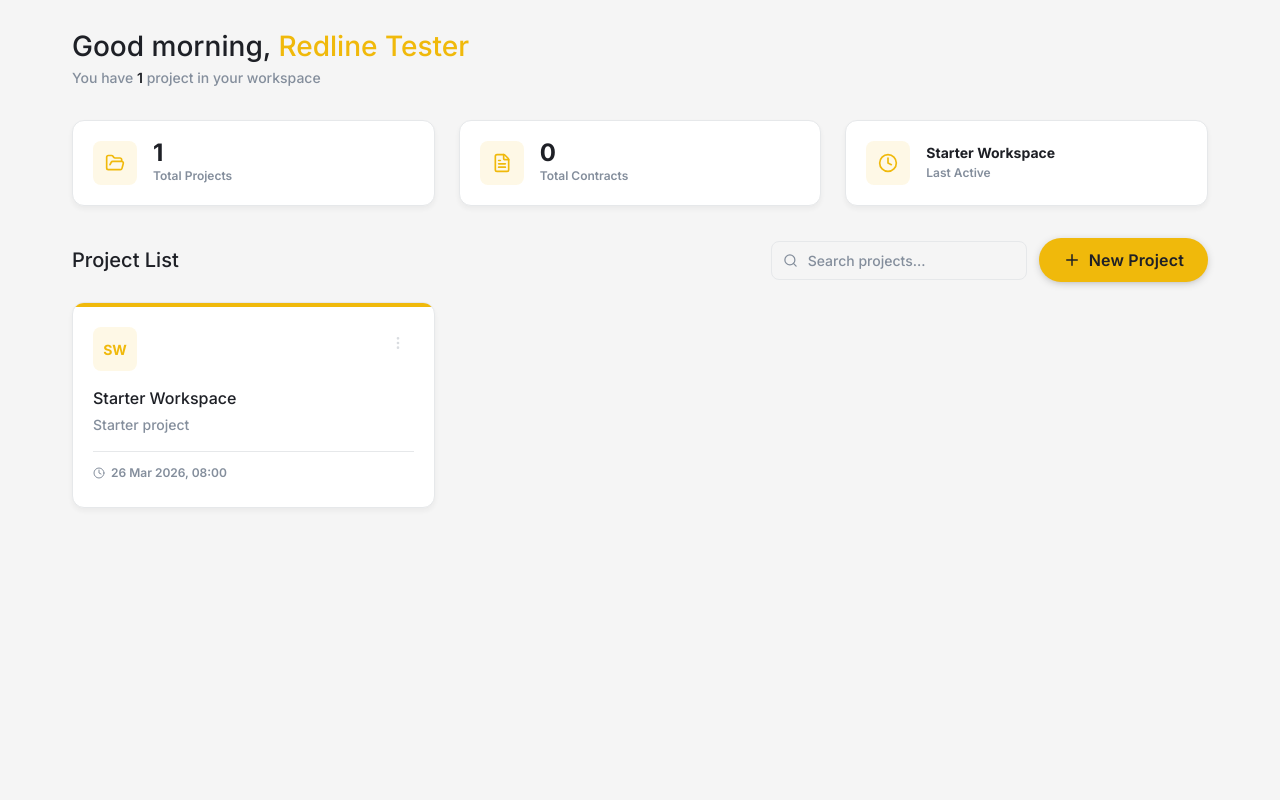
Test: ProjectListPage › deletes a project after confirmation and removes it from the list
Expected: the heading "Project List" is shown, [72, 248, 179, 272]
Expected: the link "Starter Workspace" is shown, [73, 307, 434, 507]
Click the button named "project actions for starter workspace". click: [398, 343]
box: [382, 327, 414, 359]
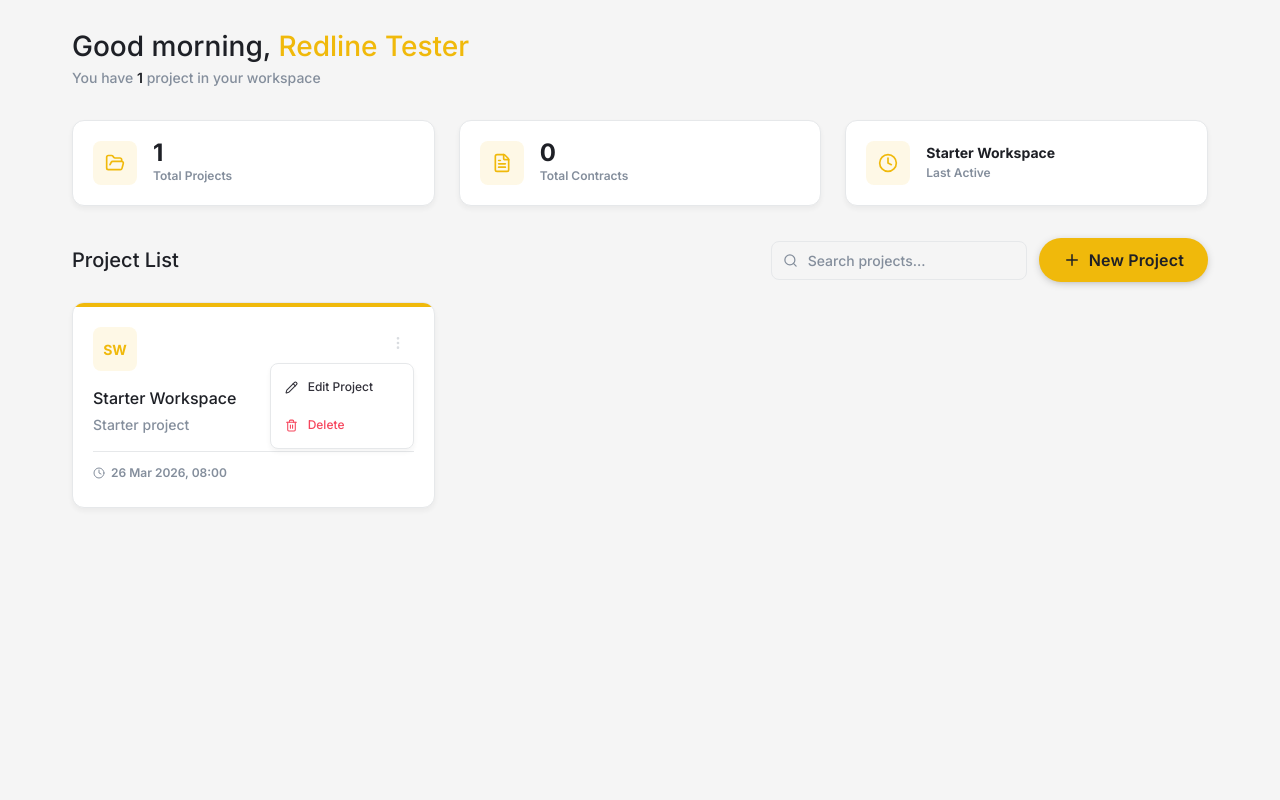
Click the button with aria-label "delete project starter workspace". click: [342, 425]
box: [271, 406, 413, 444]
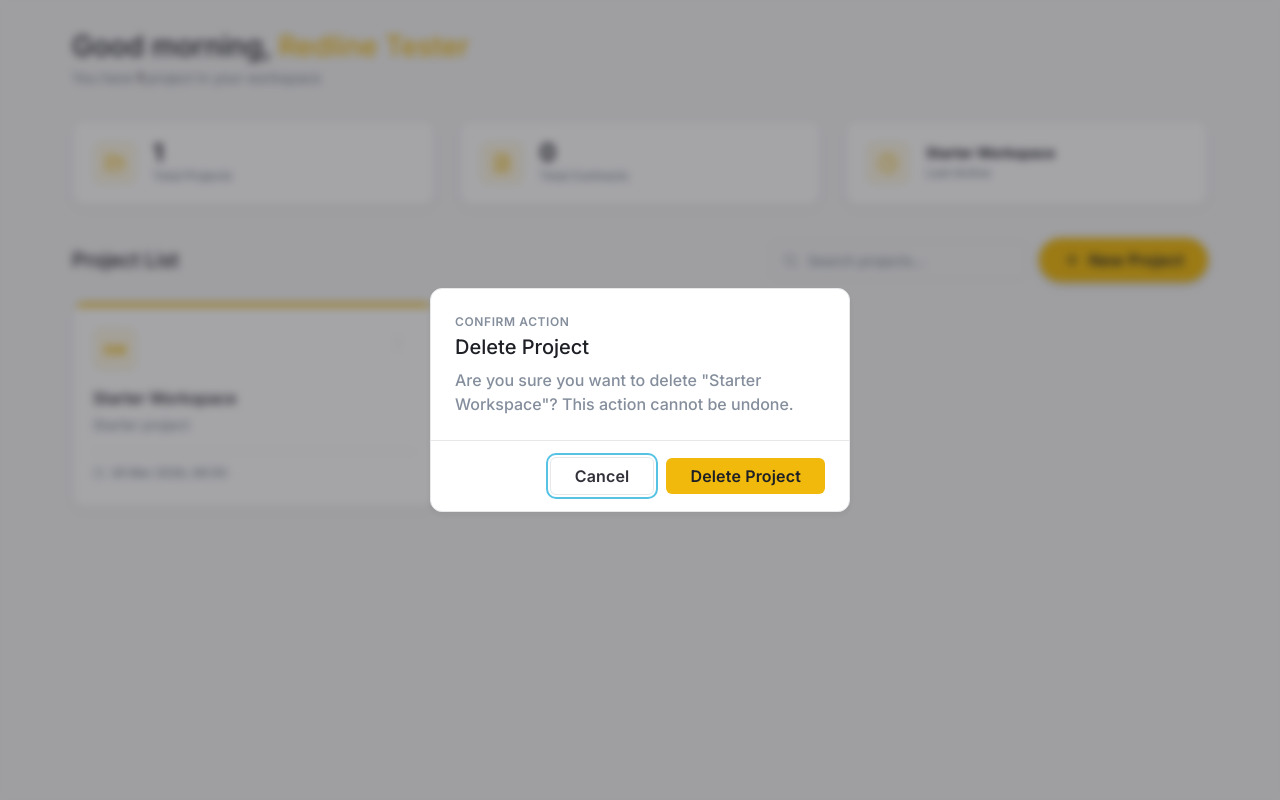
Now the dialog "Delete Project" is shown, box [430, 288, 850, 512]
Click the button "Delete Project". click: [746, 476]
box: [666, 458, 825, 494]
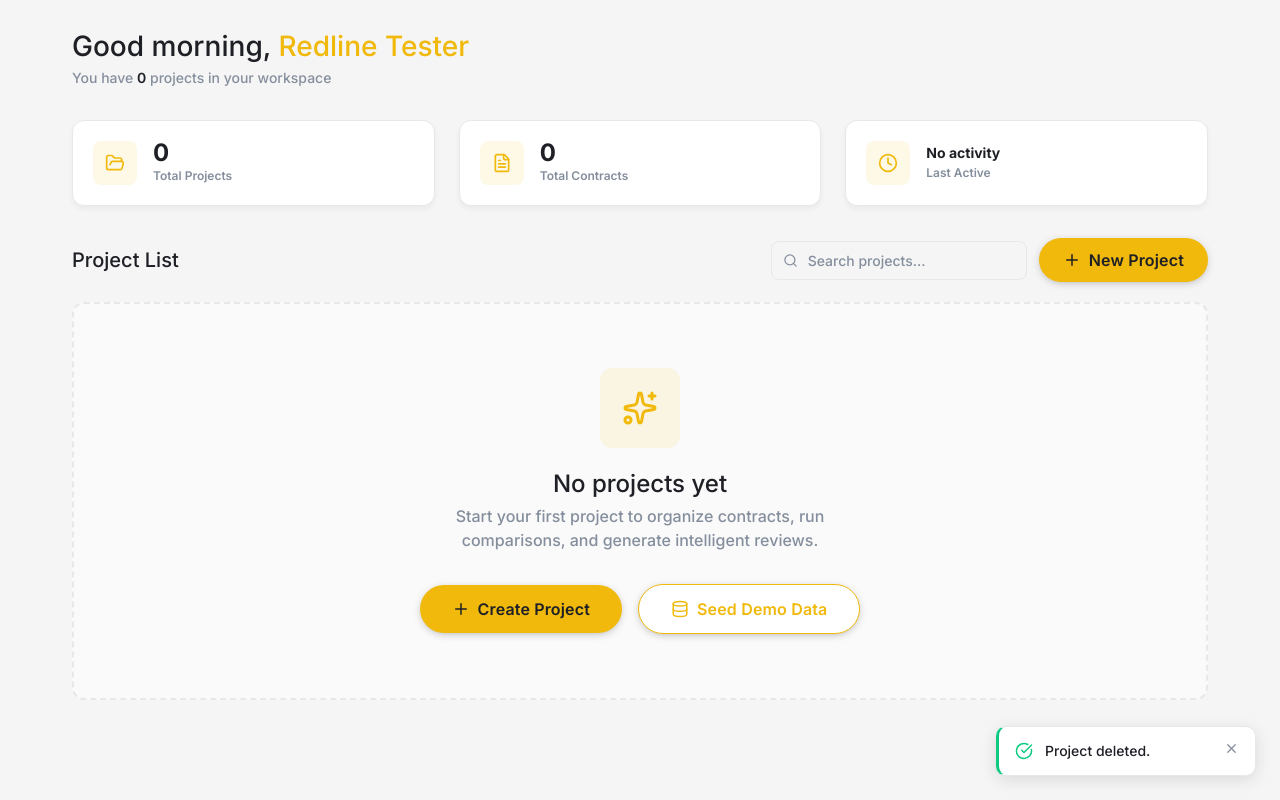
Now the heading "No projects yet" is shown, box [553, 472, 727, 496]
Now the text "Starter Workspace" is gone
